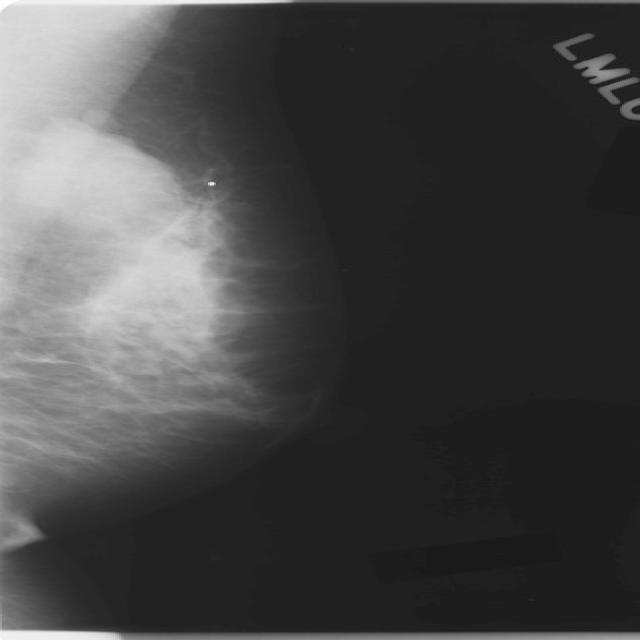tumour: (14, 118, 178, 227)
